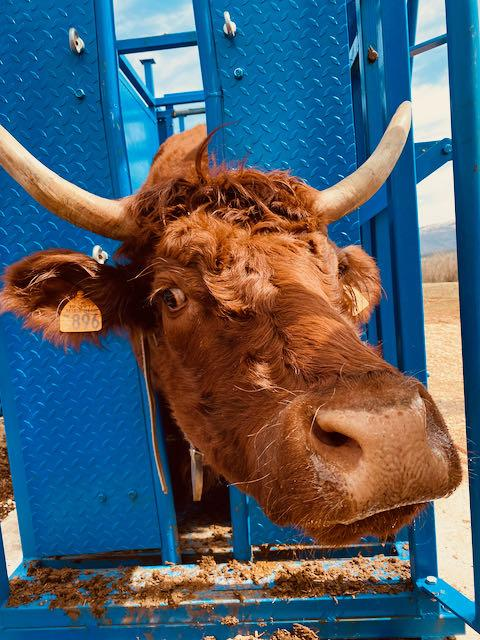muzzles: (278, 392, 463, 524)
